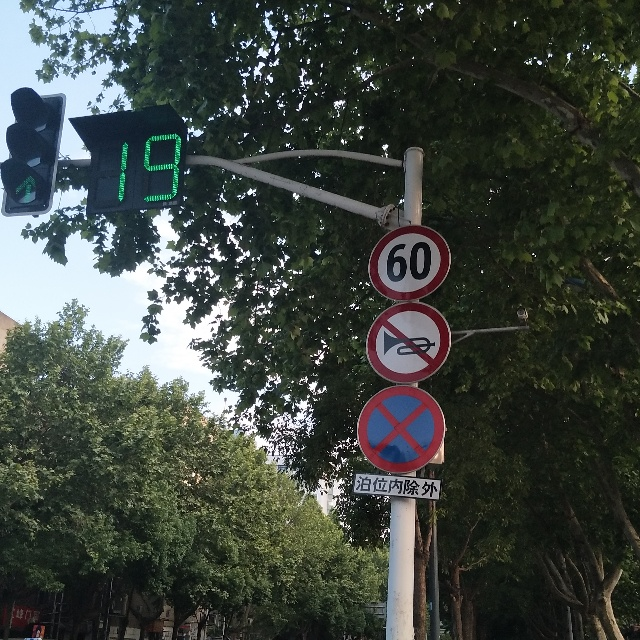nohonk: (372, 312, 445, 372)
stop: (360, 387, 438, 470)
